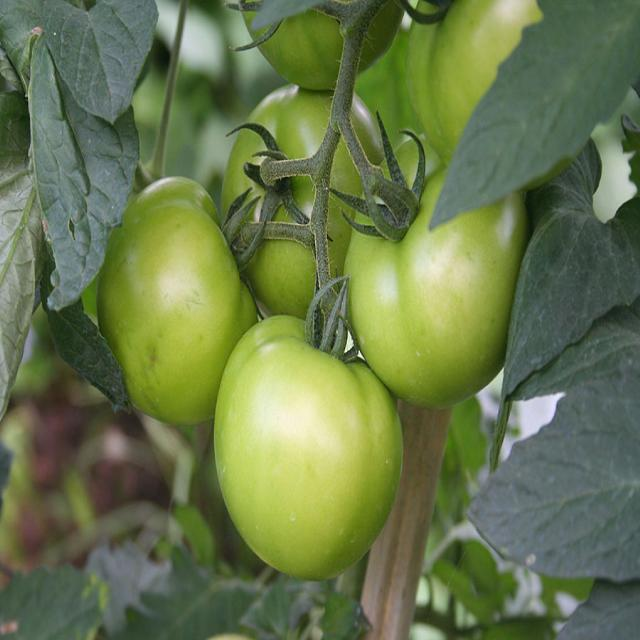yesil: (100, 53, 540, 571)
